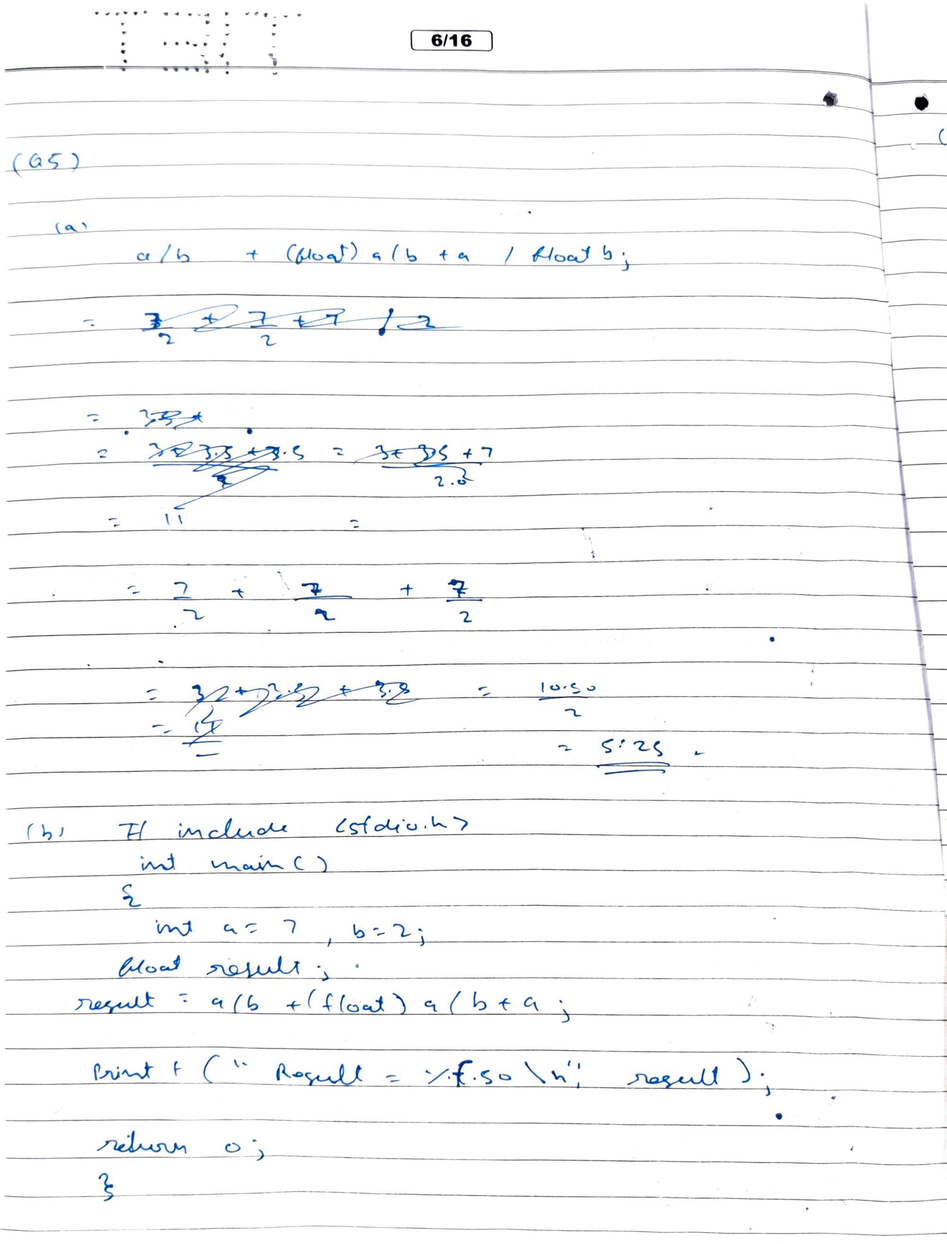cuttings: (141, 303, 469, 347), (147, 440, 306, 513), (183, 679, 422, 720), (351, 443, 484, 487), (180, 704, 225, 749), (138, 408, 205, 434)
